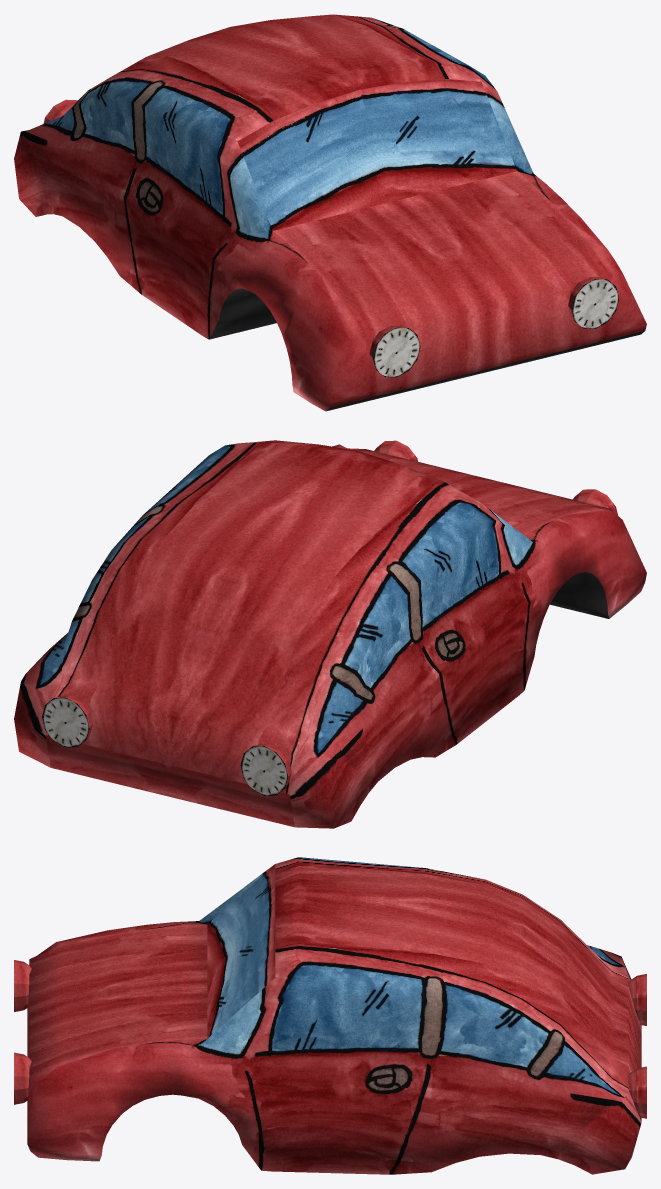
File: car-v0.2.0.glb
3 renders of one model, top to bottom at view 1: azimuth 30°, elevation 25°; view 2: azimuth 150°, elevation 25°; view 3: azimuth 270°, elevation 25°, orthographic. The views are drawn at different scales.
Parts seen in each view (by area): view 1: Car, Lamp FR, Lamp FL; view 2: Car, Lamp BL, Lamp BR; view 3: Car, Lamp FL, Lamp FR, Lamp BL, Lamp BR.
Part boxes in pixels (bbox=[...]): Car: bbox=[14, 14, 646, 411]; Lamp FR: bbox=[369, 325, 420, 377]; Lamp FL: bbox=[568, 277, 618, 328]; Car: bbox=[14, 440, 646, 828]; Lamp BL: bbox=[42, 695, 92, 747]; Lamp BR: bbox=[240, 744, 291, 795]; Car: bbox=[27, 857, 641, 1174]; Lamp FL: bbox=[14, 1052, 31, 1104]; Lamp FR: bbox=[14, 960, 31, 1011]; Lamp BL: bbox=[628, 1066, 646, 1118]; Lamp BR: bbox=[628, 974, 646, 1025].
Size of the model in its own units: 1.59 by 1.05 by 2.89.
1 material, 1 textured.
